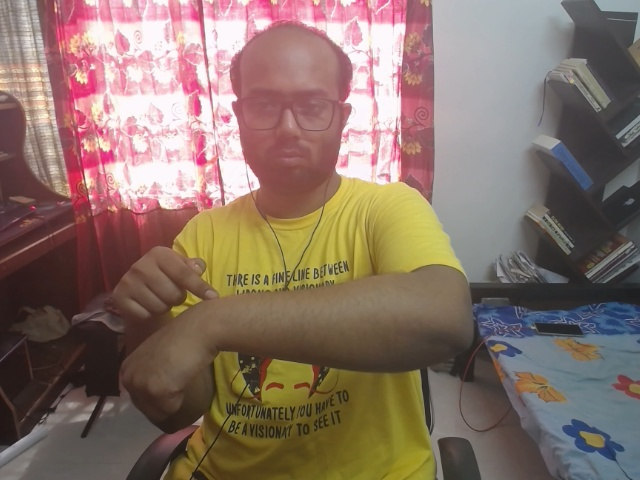time: (78, 229, 321, 445)
